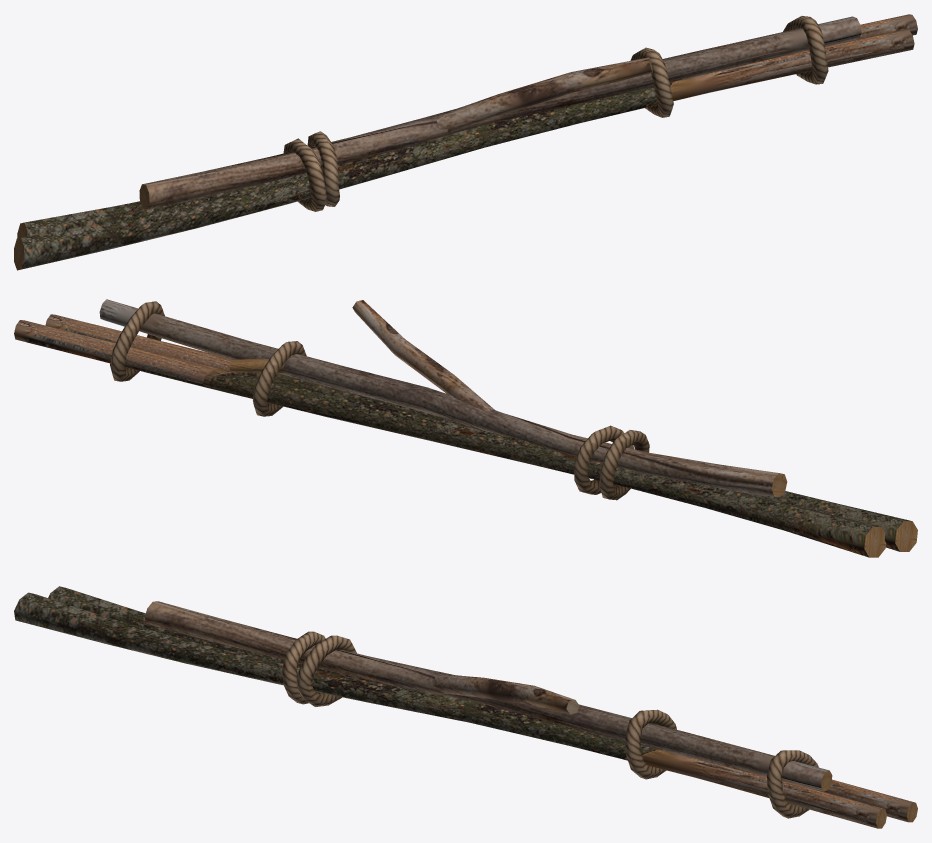
The model's file is village_wood_stick_07.fbx.
3 views of the same model, one above another, from view 1: azimuth 30°, elevation 25°; view 2: azimuth 150°, elevation 25°; view 3: azimuth 330°, elevation 25° (orthographic). The views are drawn at different scales.
Visible parts, largest first — view 1: village_wood_stick_07; view 2: village_wood_stick_07; view 3: village_wood_stick_07.
Boxes of the visible parts, x1=… form: village_wood_stick_07: x1=14, y1=14, x2=917, y2=270; village_wood_stick_07: x1=14, y1=299, x2=917, y2=557; village_wood_stick_07: x1=14, y1=586, x2=917, y2=828.
Bounding box in the file's own units: 261 × 27.43 × 32.34.
